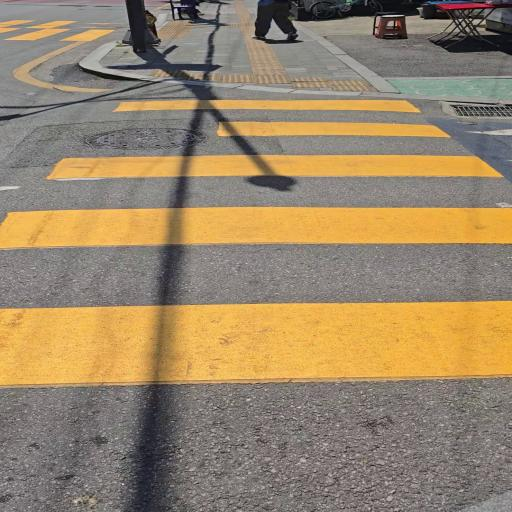yellow-crosswalk: (0, 83, 512, 420), (0, 10, 151, 52)
